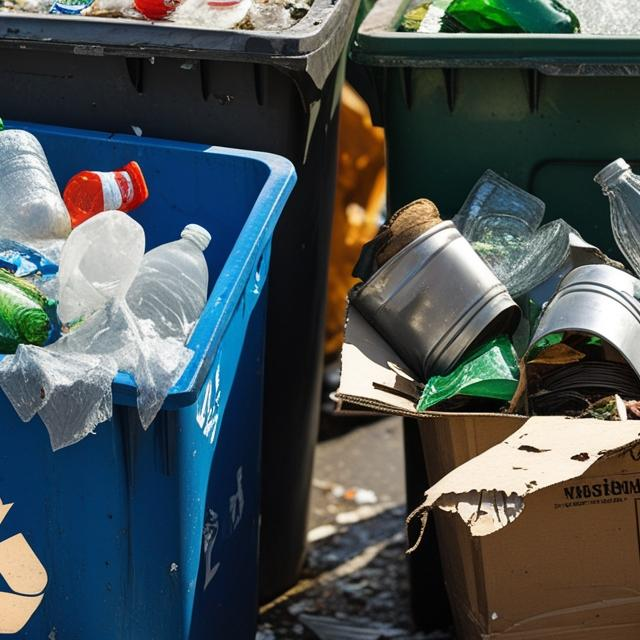metal: (351, 218, 507, 352), (523, 268, 640, 378)
plastic: (0, 105, 63, 246), (146, 207, 210, 334), (72, 0, 243, 21)
